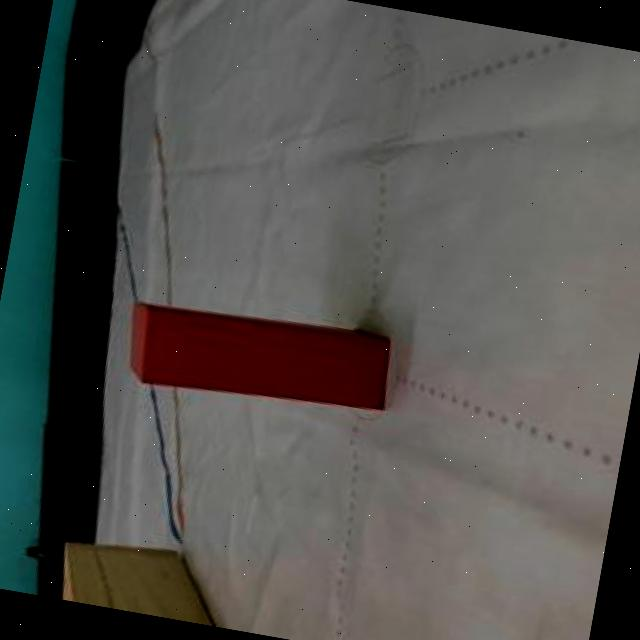redbox: (118, 293, 396, 424)
